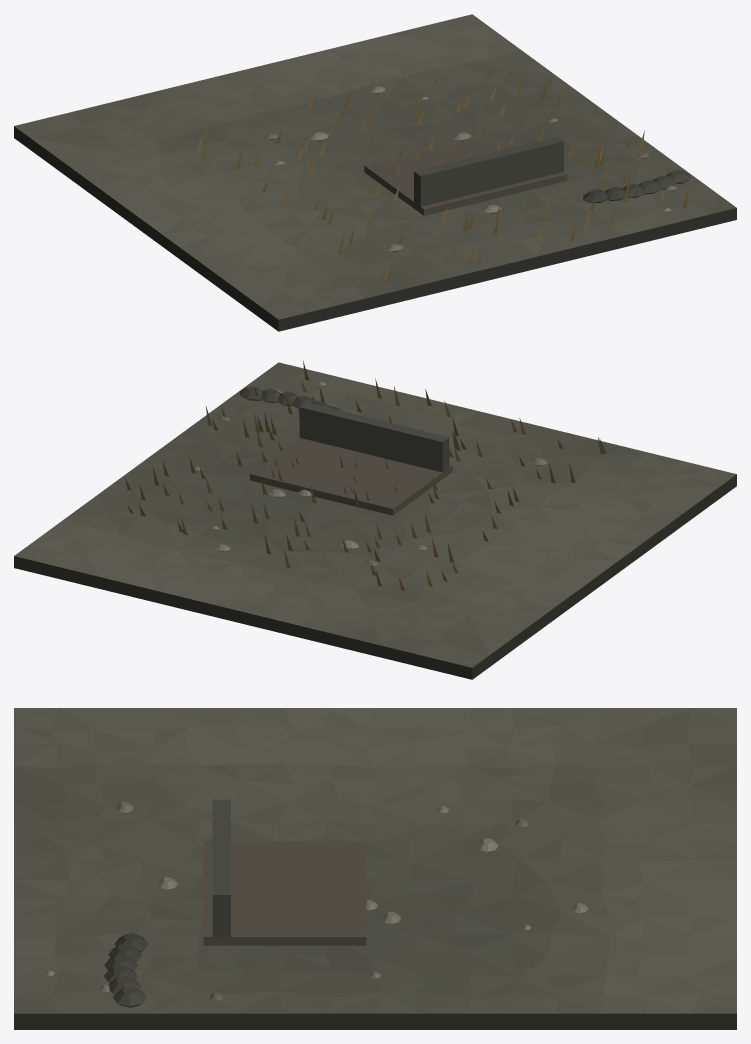
Rendered from CHUNK_abandoned_village__looted_trade_hamlet__11.glb.
3 views of the same model, one above another, from view 1: azimuth 30°, elevation 25°; view 2: azimuth 150°, elevation 25°; view 3: azimuth 270°, elevation 25° (orthographic). The views are drawn at different scales.
Parts seen in each view (by area): view 1: CHUNK_abandoned_village__looted_trade_hamlet__11; view 2: CHUNK_abandoned_village__looted_trade_hamlet__11; view 3: CHUNK_abandoned_village__looted_trade_hamlet__11.
Part boxes in pixels (x1,y1,x2,y2): CHUNK_abandoned_village__looted_trade_hamlet__11: (14, 14, 736, 331); CHUNK_abandoned_village__looted_trade_hamlet__11: (14, 361, 736, 679); CHUNK_abandoned_village__looted_trade_hamlet__11: (14, 708, 736, 1029).
Size of the model in its own units: 8 by 0.83 by 8.
